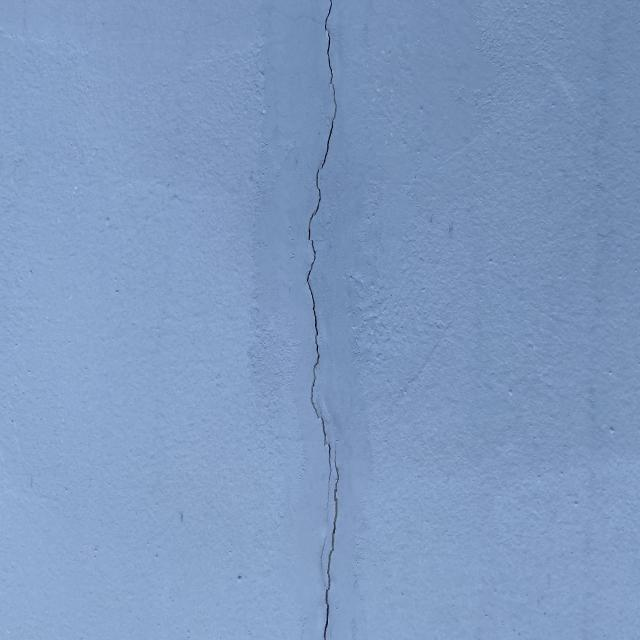SurfaceCrack: (256, 1, 391, 640)
